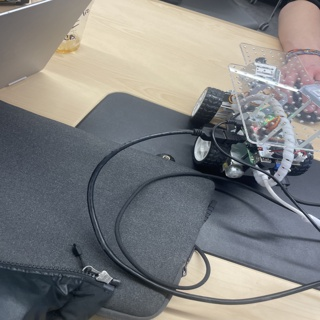vehicle: (189, 43, 319, 182)
